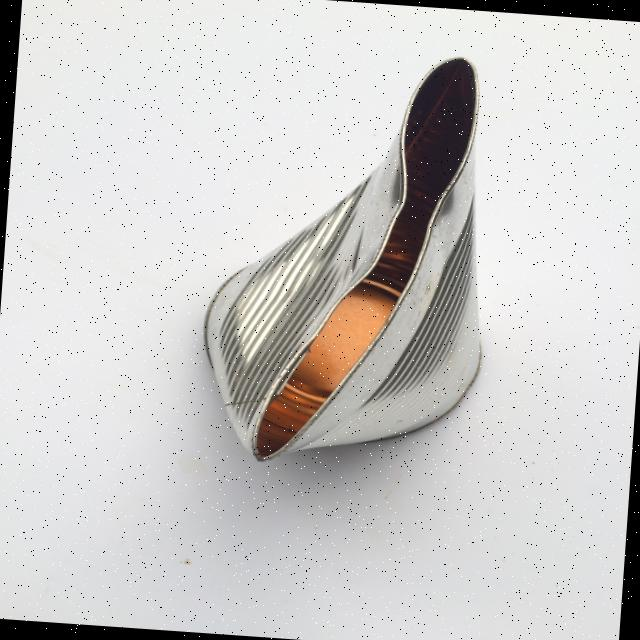metal: (193, 39, 503, 476)
